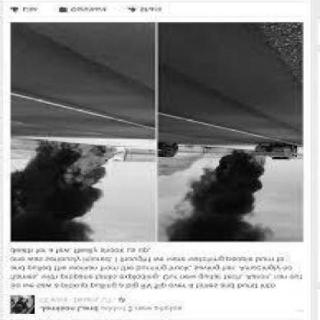Fire: (60, 145, 114, 189), (234, 147, 270, 171)
Smoke: (173, 163, 263, 243)
